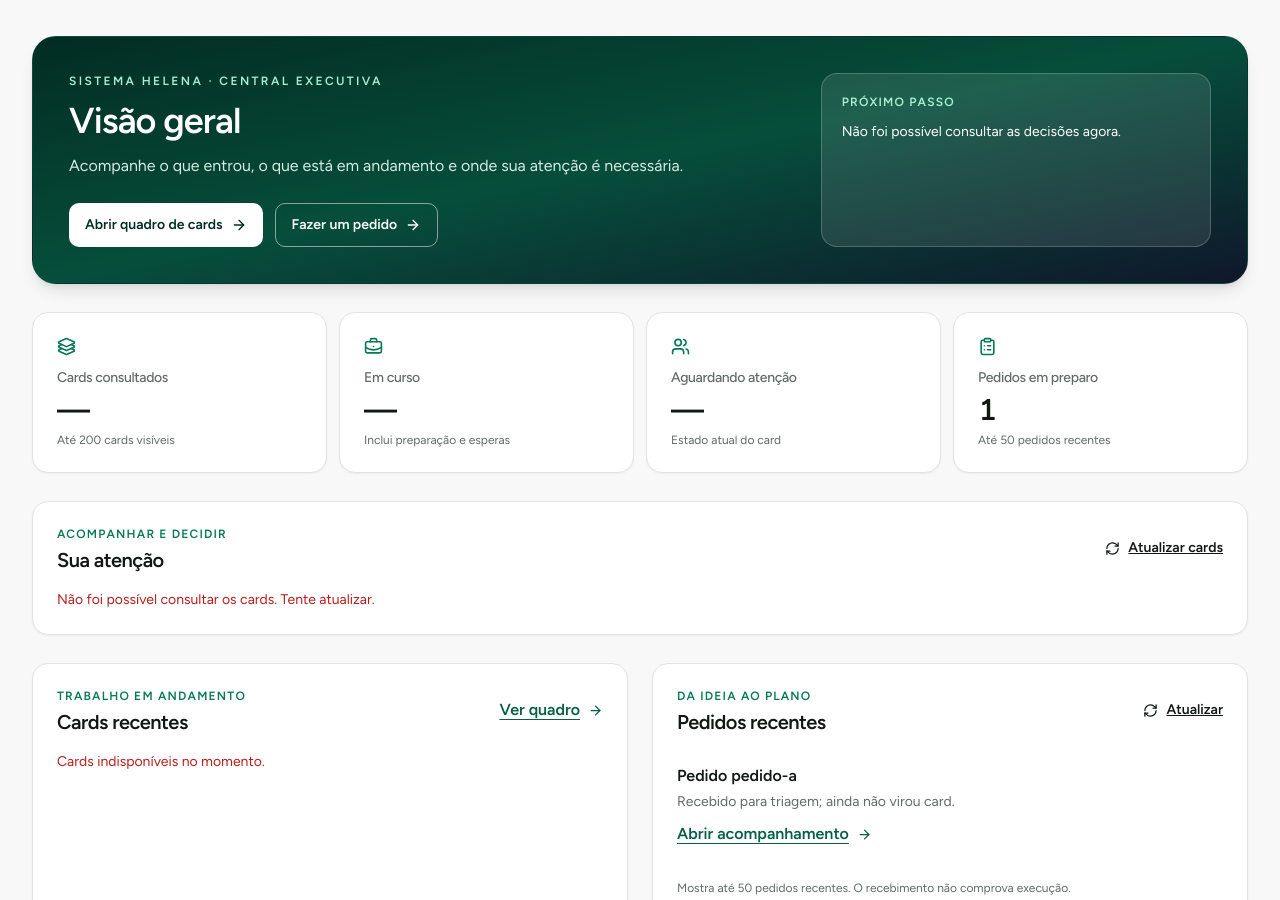
Test: mantém falhas separadas de zero e permite repetir apenas a leitura que falhou
Expected: the text "Não foi possível consultar os cards. Tente atualizar." is shown, [57,591,375,608]
Expected: the text "Nenhum card disponível." is not shown
Click the button "Atualizar cards".
click(1164, 548)  # box [1105,526,1223,570]
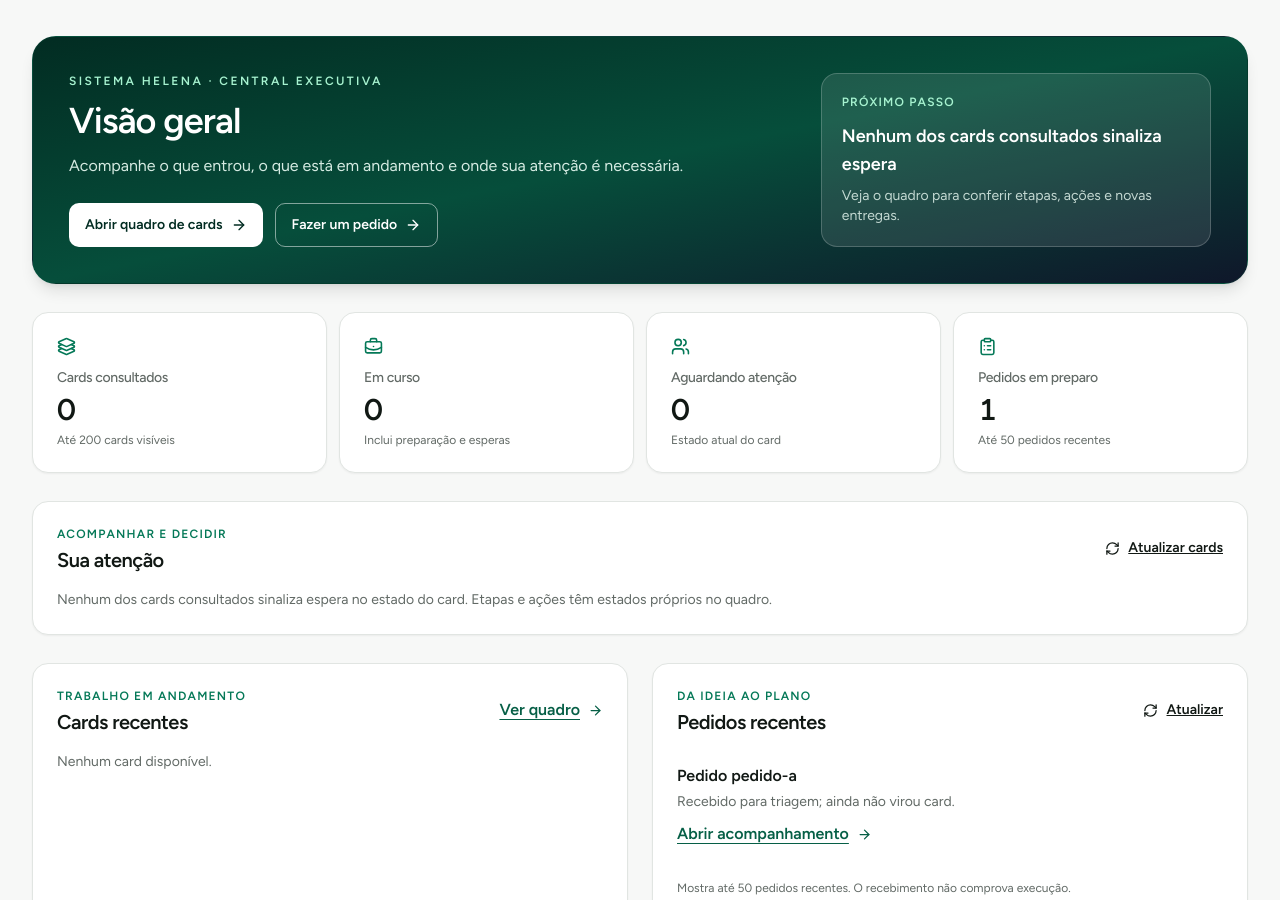
Now the text "Nenhum card disponível." is shown, box [57,753,212,770]
